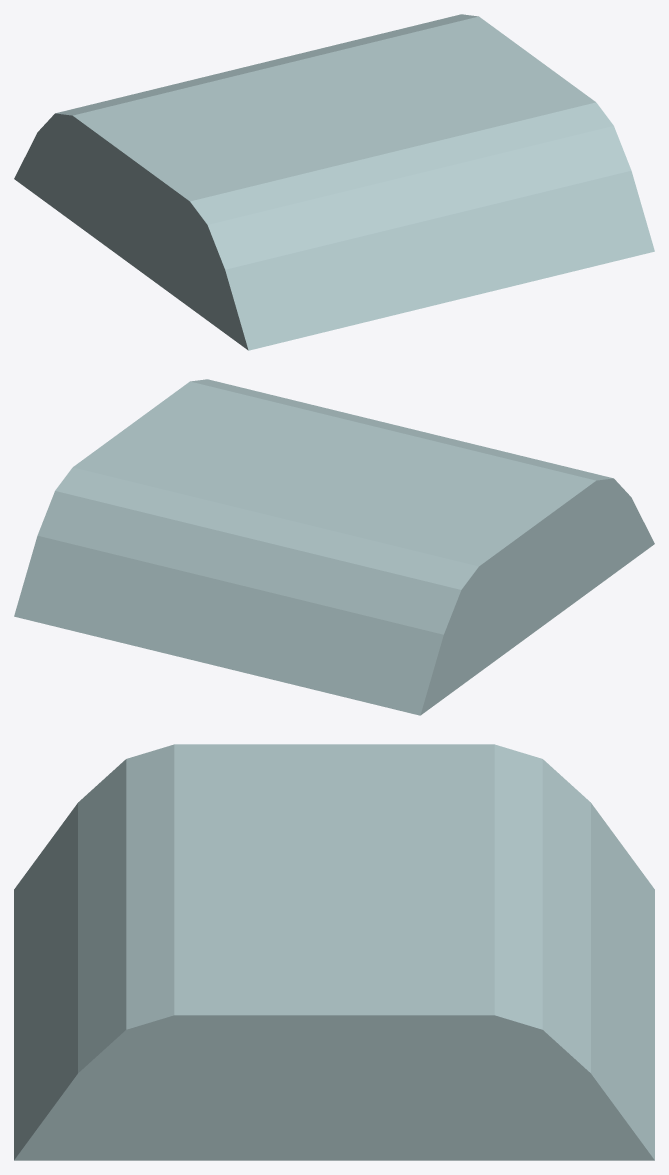
File: mainha.fbx
3 views of the same model, one above another, from view 1: azimuth 30°, elevation 25°; view 2: azimuth 150°, elevation 25°; view 3: azimuth 270°, elevation 25° (orthographic). The views are drawn at different scales.
Parts seen in each view (by area): view 1: VExtr001; view 2: VExtr001; view 3: VExtr001.
Part boxes in pixels (<box>): VExtr001: <box>14,14,654,350</box>; VExtr001: <box>14,379,654,715</box>; VExtr001: <box>14,744,654,1160</box>.
Bounding box in the file's own units: 2 × 0.5 × 2.
